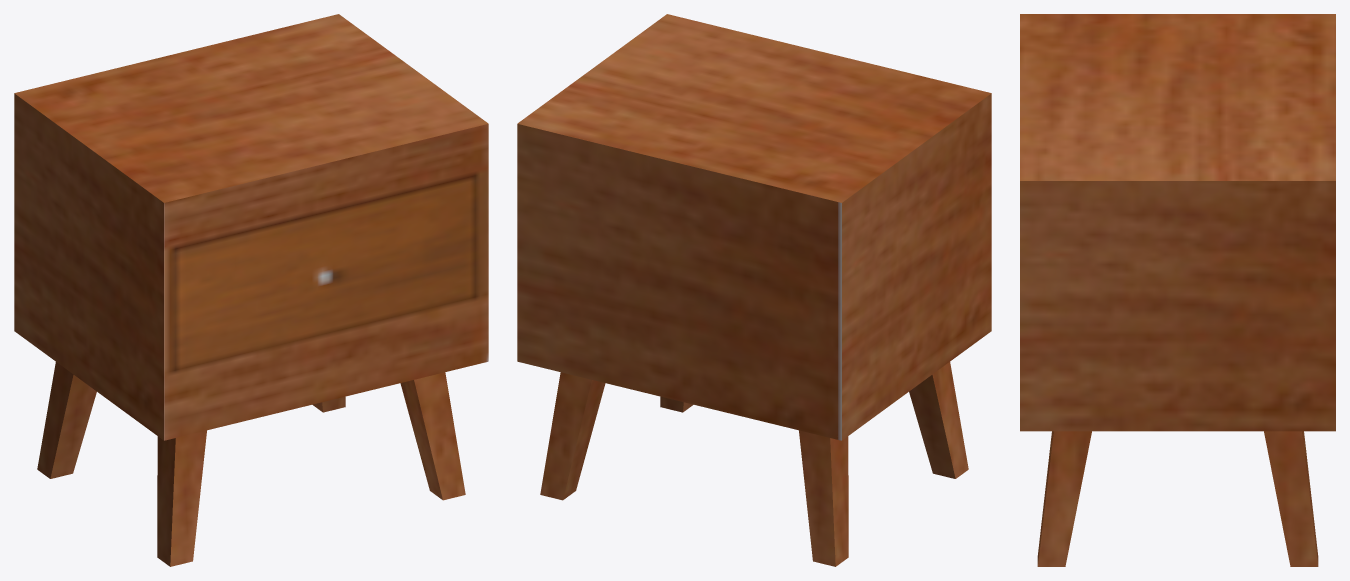
Rendered from NightStand.fbx.
3 views of the same model, side by side, from view 1: azimuth 30°, elevation 25°; view 2: azimuth 150°, elevation 25°; view 3: azimuth 270°, elevation 25° (orthographic). The views are drawn at different scales.
Parts seen in each view (by area): view 1: Cube.001; view 2: Cube.001; view 3: Cube.001.
Part boxes in pixels (x1,y1,x2,y2): Cube.001: [14, 14, 488, 566]; Cube.001: [517, 14, 991, 566]; Cube.001: [1020, 14, 1335, 566].
Size of the model in its own units: 50 by 55 by 40.
